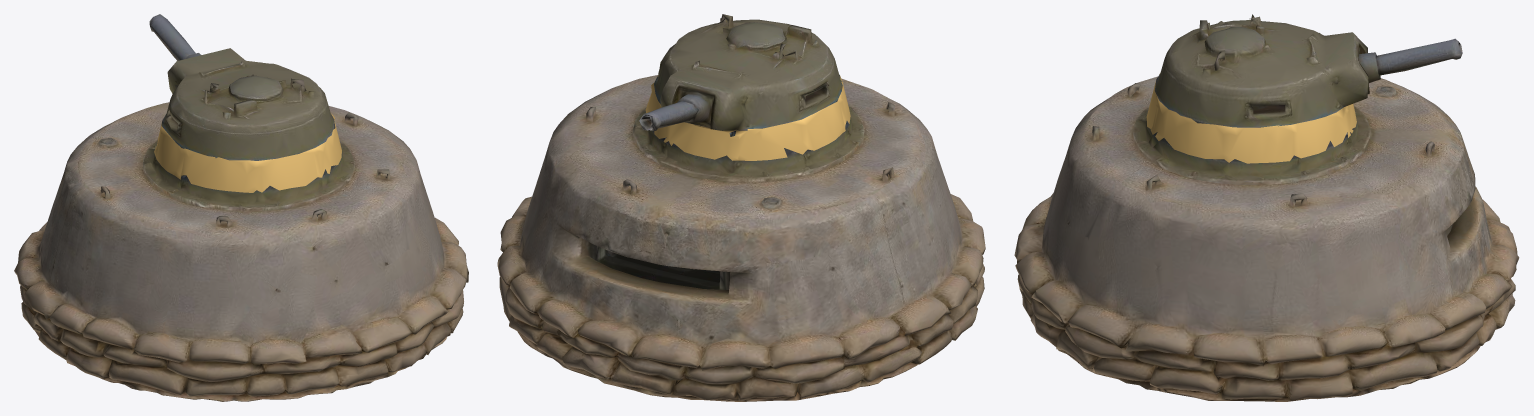
The model's file is bunker.glb.
The picture shows the model from 3 angles, left to right: view 1: azimuth 30°, elevation 25°; view 2: azimuth 150°, elevation 25°; view 3: azimuth 270°, elevation 25°; orthographic projection. The views are drawn at different scales.
Parts seen in each view (by area): view 1: Model; view 2: Model; view 3: Model.
Part boxes in pixels (<box>): Model: <box>14,14,468,401</box>; Model: <box>497,14,985,401</box>; Model: <box>1014,14,1519,401</box>.
Size of the model in its own units: 2 by 1.19 by 2.
2 materials, 1 textured.
